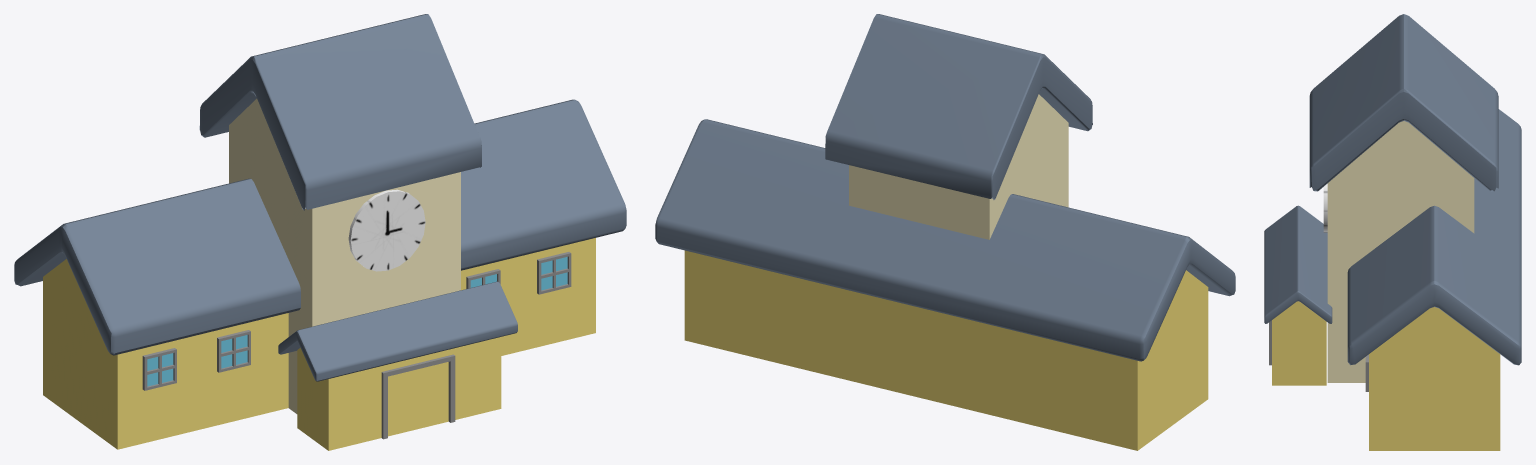
Rendered from school.fbx.
The picture shows the model from 3 angles, left to right: view 1: azimuth 30°, elevation 25°; view 2: azimuth 150°, elevation 25°; view 3: azimuth 270°, elevation 25°; orthographic projection. The views are drawn at different scales.
Visible parts, largest first — view 1: pCube14; view 2: pCube14; view 3: pCube14.
Boxes of the visible parts, x1=… form: pCube14: x1=14, y1=14, x2=626, y2=450; pCube14: x1=655, y1=14, x2=1235, y2=450; pCube14: x1=1264, y1=14, x2=1521, y2=450.
Bounding box in the file's own units: 102 × 64.27 × 50.16.
